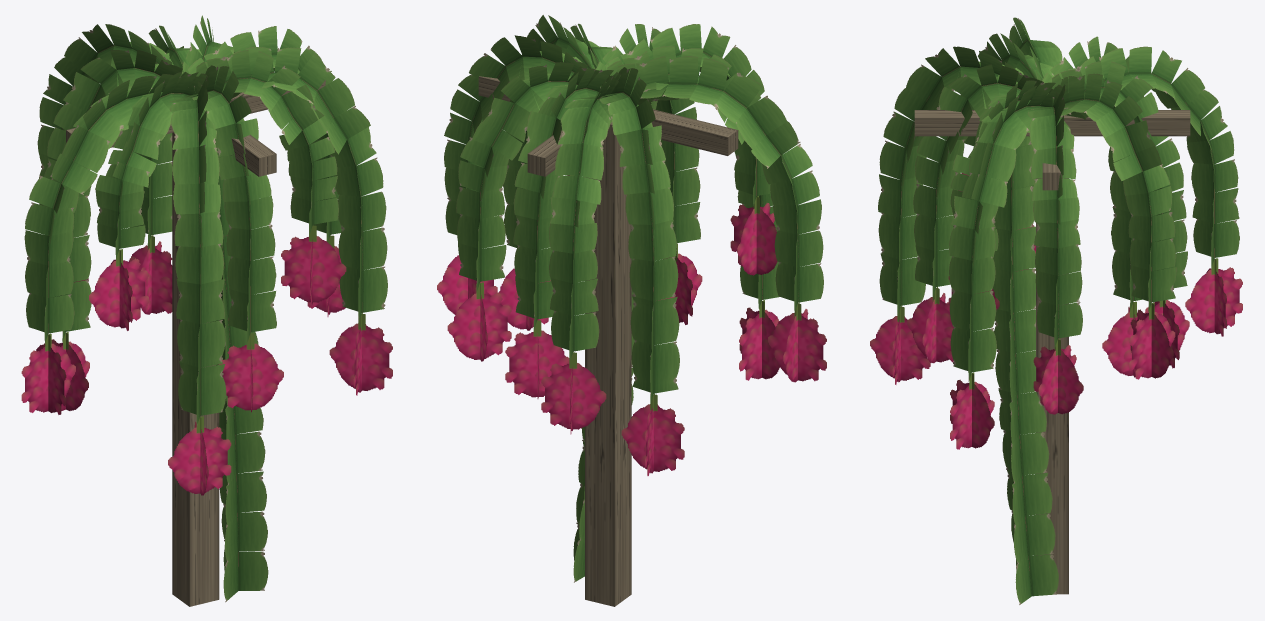
The model's file is dragonfruit_6.obj.
3 views of the same model, side by side, from view 1: azimuth 30°, elevation 25°; view 2: azimuth 150°, elevation 25°; view 3: azimuth 270°, elevation 25° (orthographic). The views are drawn at different scales.
Parts seen in each view (by area): view 1: dragonfruit; view 2: dragonfruit; view 3: dragonfruit.
Part boxes in pixels (<box>): dragonfruit: <box>21,15,392,606</box>; dragonfruit: <box>437,15,826,606</box>; dragonfruit: <box>870,17,1242,604</box>.
Size of the model in its own units: 1.25 by 1.77 by 1.18.
